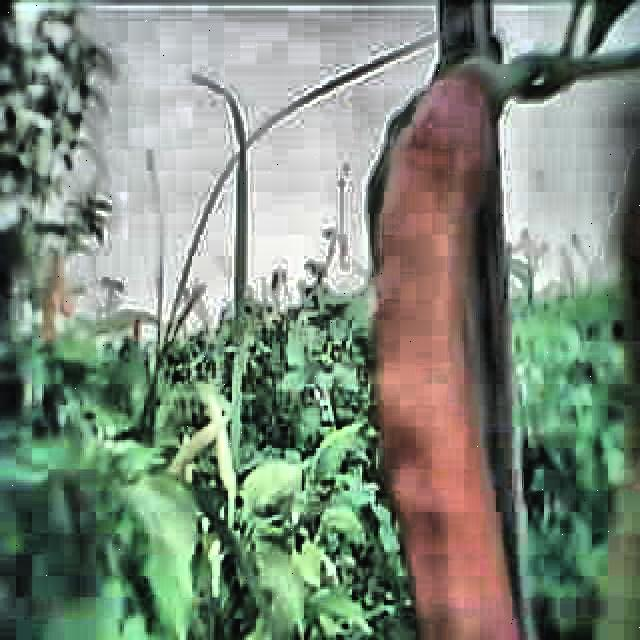Cabai: (390, 70, 474, 640)
